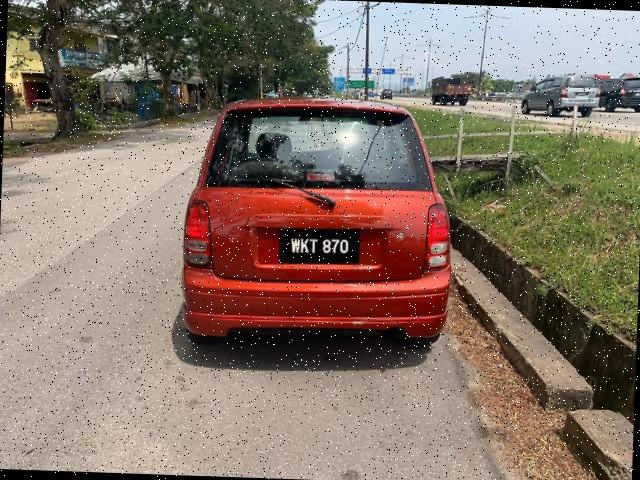License_Plate: (278, 232, 367, 264)
car: (177, 95, 460, 354)
